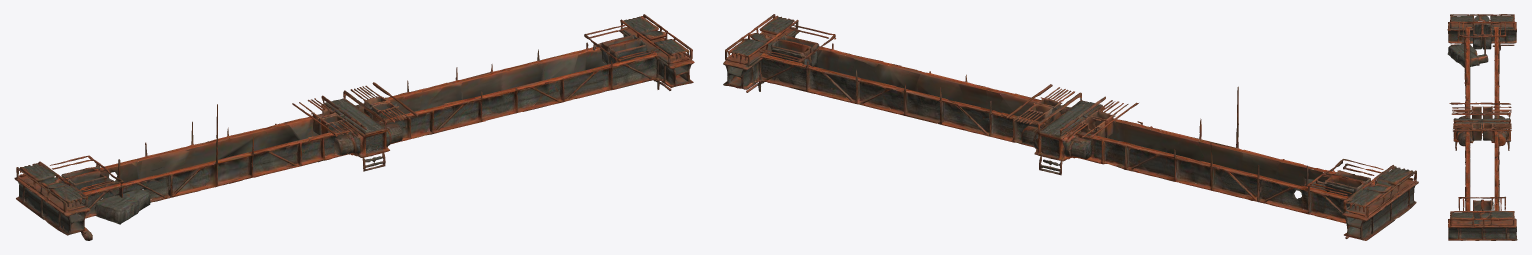
File: holdfast.glb
3 renders of one model, left to right at view 1: azimuth 30°, elevation 25°; view 2: azimuth 150°, elevation 25°; view 3: azimuth 270°, elevation 25°, orthographic. The views are drawn at different scales.
Parts seen in each view (by area): view 1: Mesh_0; view 2: Mesh_0; view 3: Mesh_0.
Part boxes in pixels (x1,y1,x2,y2): Mesh_0: (14, 14, 694, 240); Mesh_0: (723, 14, 1418, 240); Mesh_0: (1447, 14, 1517, 240).
Size of the model in its own units: 1.91 by 0.2815 by 0.2749.
1 material, 1 textured.
